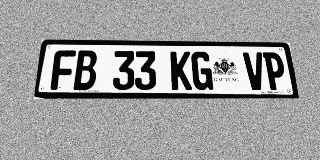3: (113, 51, 135, 90), (135, 51, 156, 90)
B: (73, 50, 98, 90)
F: (50, 50, 76, 90)
G: (191, 52, 213, 90)
K: (170, 51, 192, 90)
P: (263, 52, 287, 90)
V: (243, 52, 267, 90)
